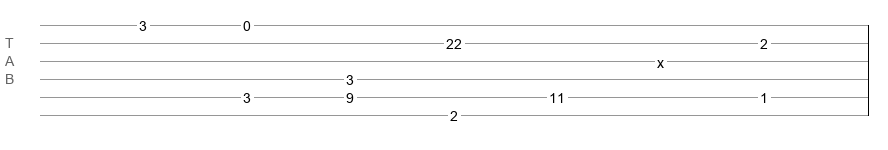0: (243, 18, 251, 28)
1: (760, 90, 768, 100)
11: (549, 90, 565, 100)
2: (450, 108, 458, 118), (760, 36, 768, 46)
22: (446, 36, 462, 46)
3: (139, 18, 147, 28), (243, 90, 251, 100), (346, 72, 354, 82)
9: (346, 90, 354, 100)
x: (657, 55, 664, 63)
